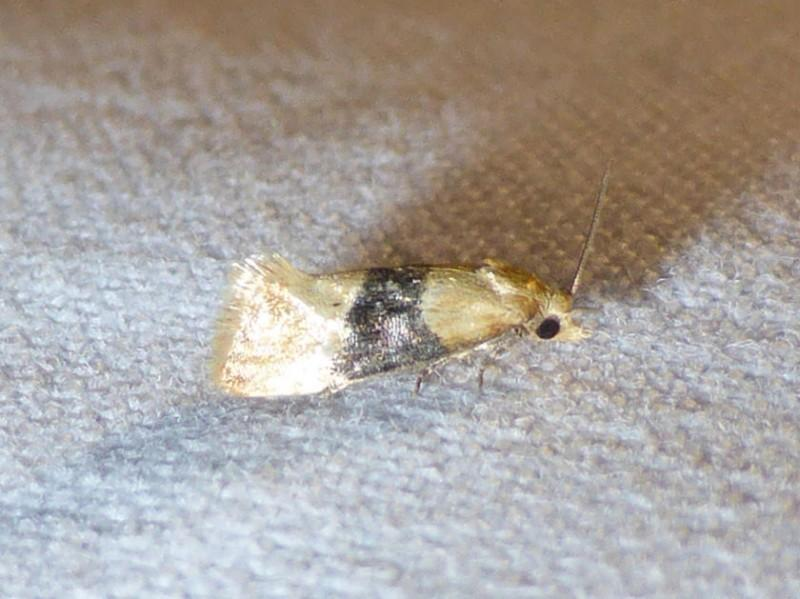Eupoecilia Ambiguella: (205, 157, 615, 403)
